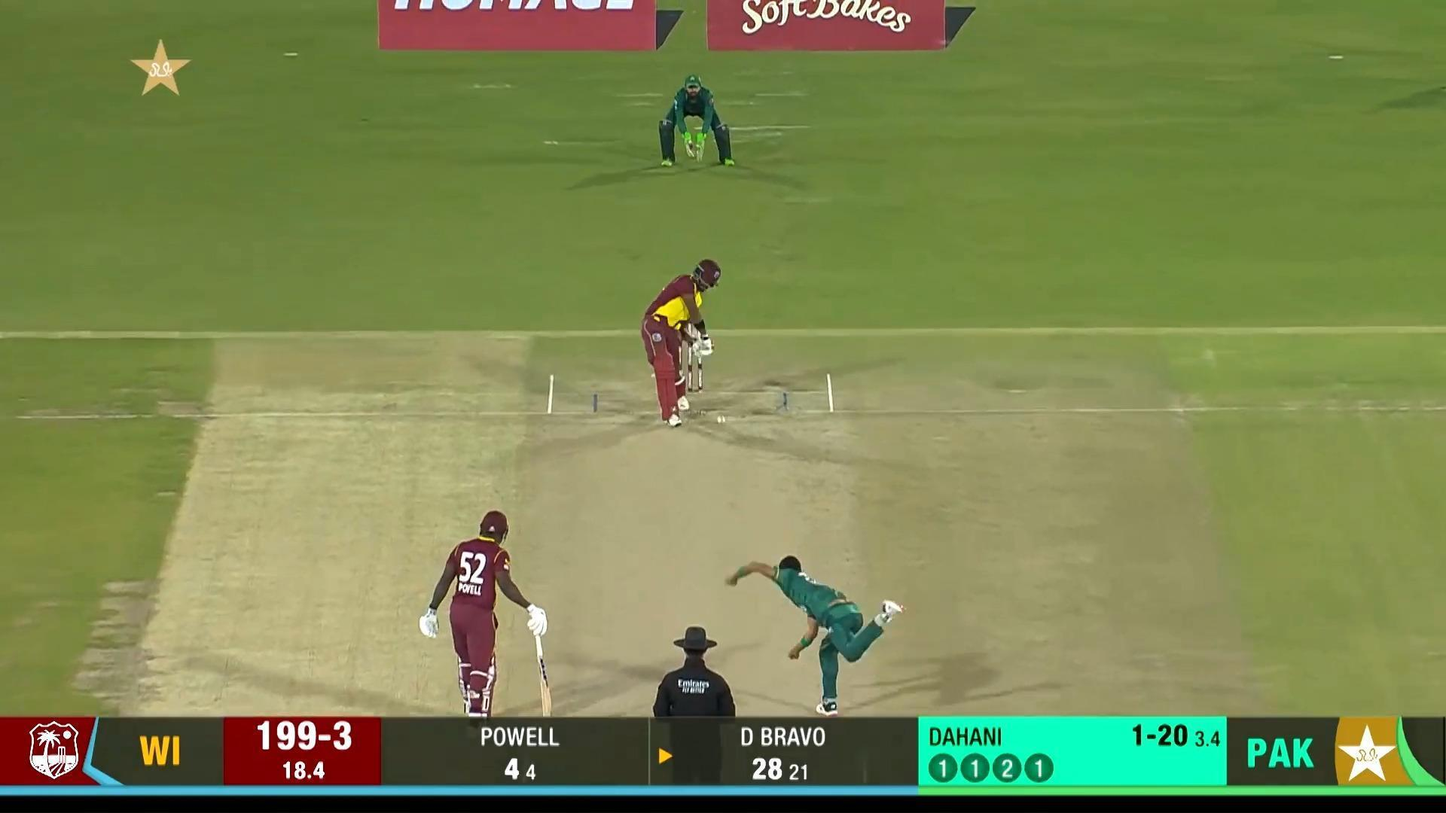BM 1: (639, 257, 723, 429)
BO: (724, 553, 907, 716)
